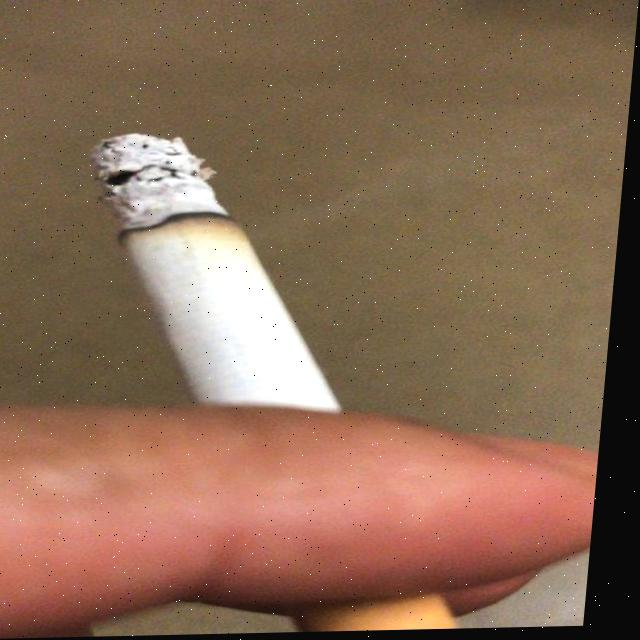cigarette: (62, 123, 508, 638)
